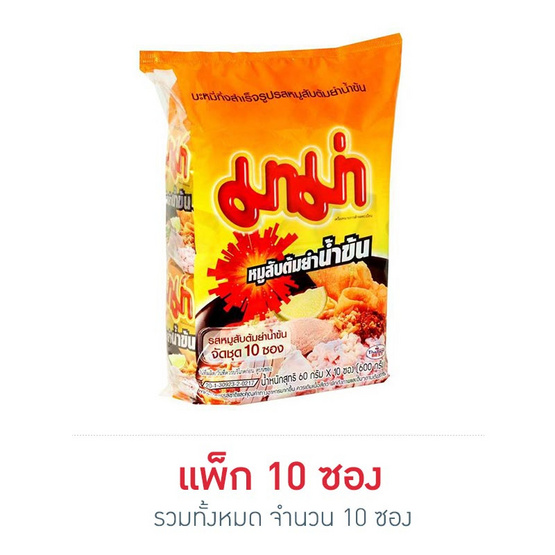Snack: (130, 29, 411, 411)
